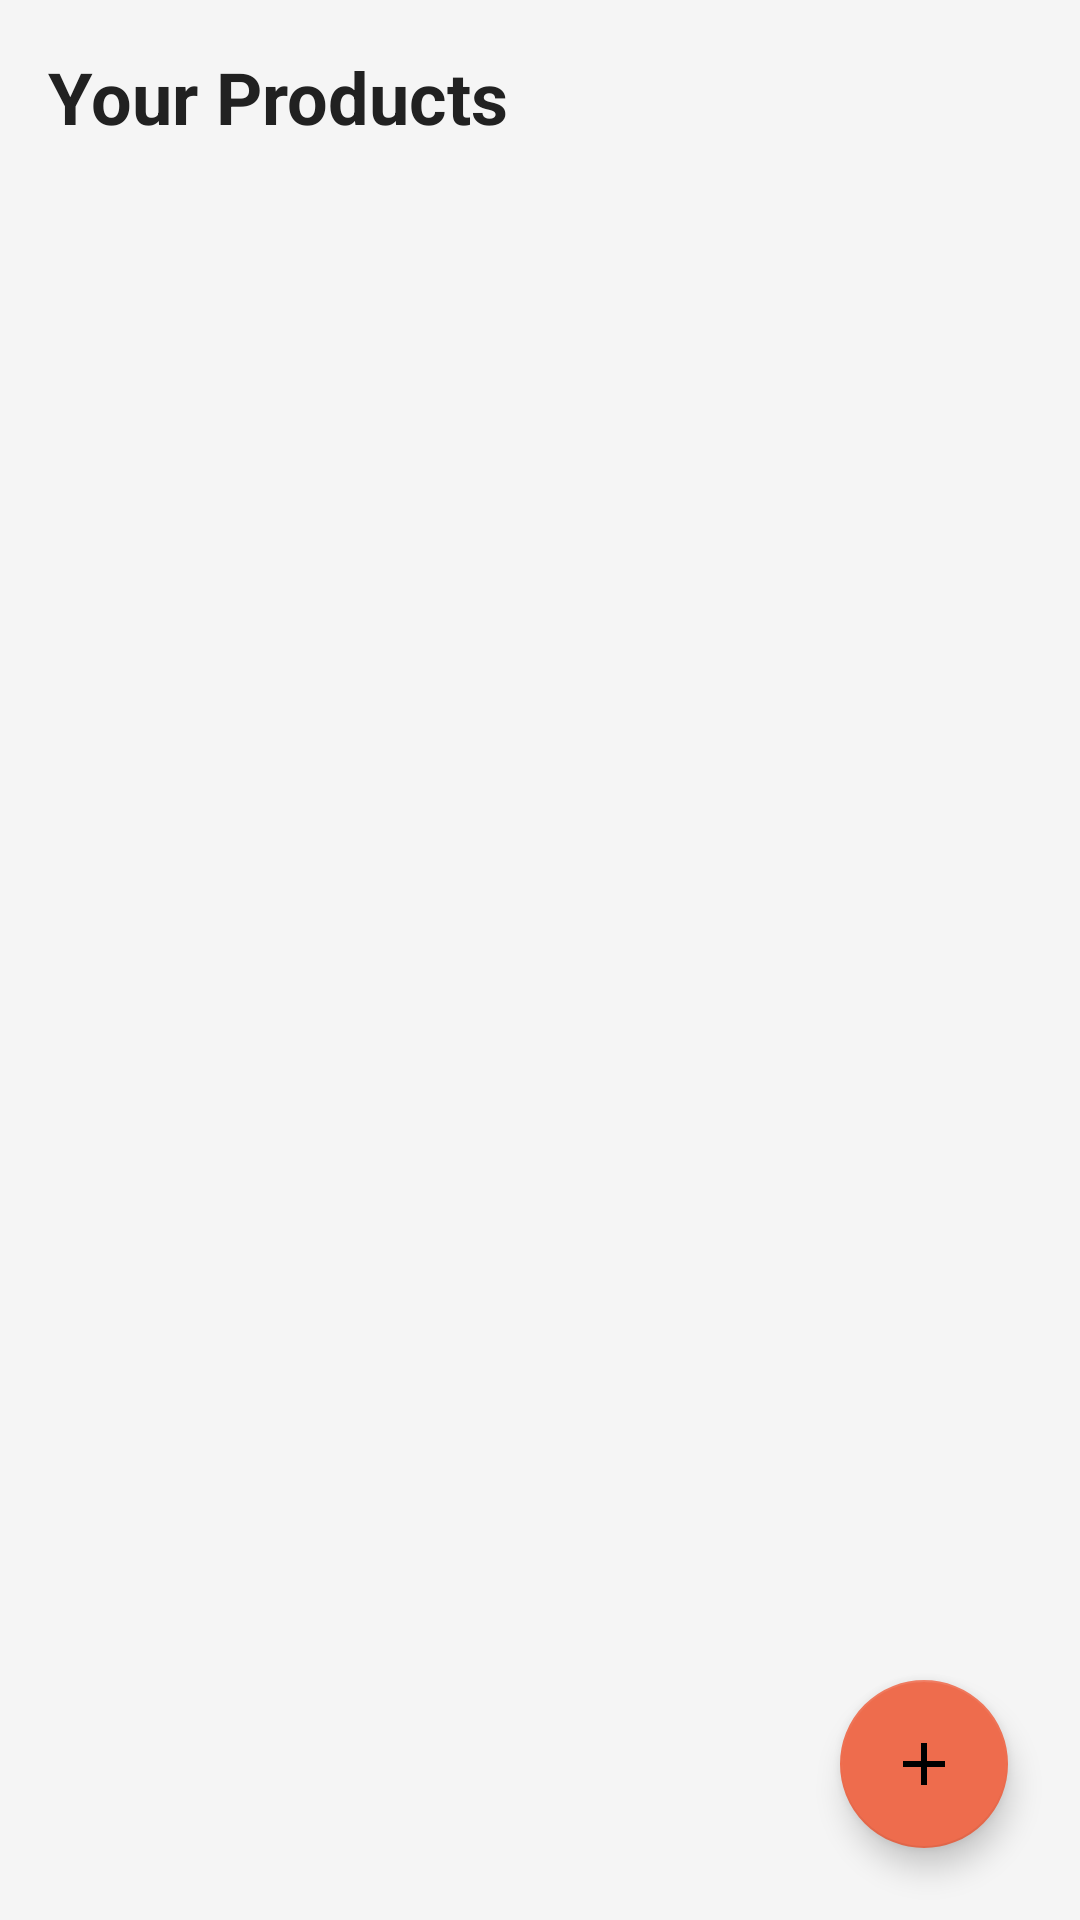

Named icons in this screenshot (1080px x 1920px) and their bounding boxes, (x1, y1, x2, y2):
Add New Product: (840, 1680, 1008, 1848)
